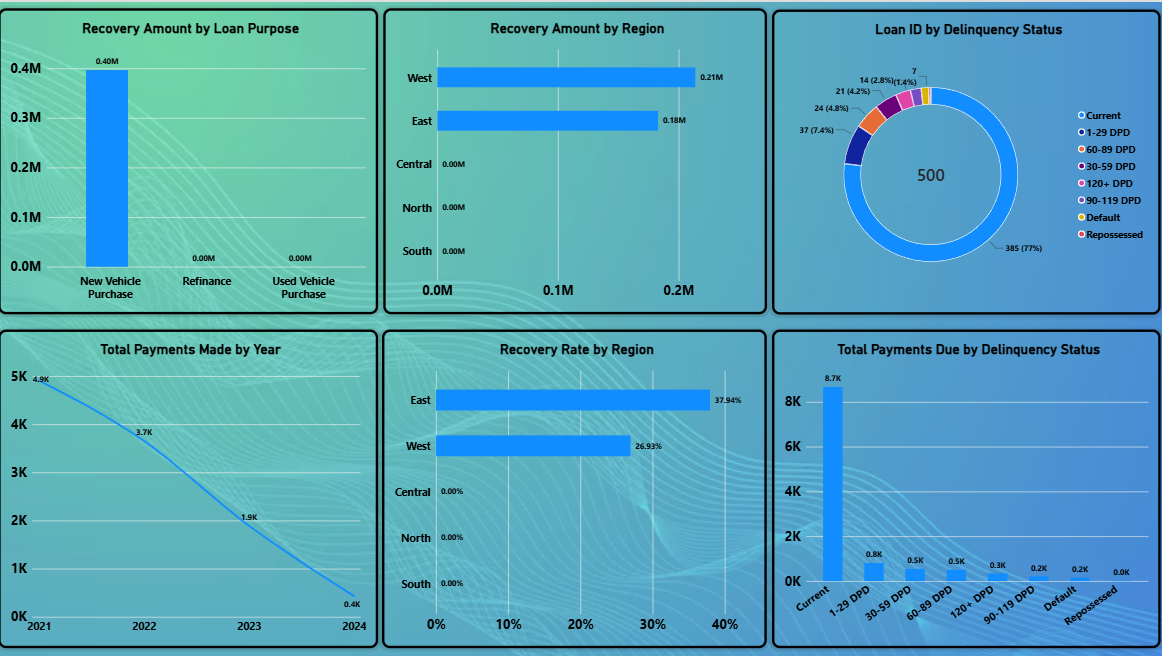

The page's visual inventory and layout, read from the dashboard file:
{"tool":"powerbi","page":{"name":"Collection & Recovery Analysis","canvas":[1920,1080],"ordinal":3},"visuals":[{"type":"clusteredColumnChart","title":" Recovery Amount by Loan Purpose","fields":{"Category":["Loan.LoanPurpose"],"Y":["Sum(Loan.RecoveryAmount)"]},"box":[2.1,10.3,625.7,504.3],"z":0},{"type":"clusteredBarChart","title":" Recovery Amount by Region","fields":{"Category":["Loan.Region"],"Y":["Sum(Loan.RecoveryAmount)"]},"box":[636,10.3,631.9,504.3],"z":1000},{"type":"donutChart","title":" Loan ID by Delinquency Status","fields":{"Category":["Loan.DelinquencyStatus"],"Y":["CountNonNull(Loan.LoanID)"]},"box":[1276.2,12.3,640.1,502.2],"z":2000},{"type":"lineChart","title":"Total Payments Made by Year","fields":{"Category":["Calendar.Year"],"Y":["Sum(Loan.TotalPaymentsMade)"]},"box":[2.1,539.3,625.7,524.9],"z":3000},{"type":"clusteredBarChart","title":"Recovery Rate by Region","fields":{"Category":["Loan.Region"],"Y":["Measures (2).Recovery Rate"]},"box":[634,539.3,634,524.9],"z":4000},{"type":"clusteredColumnChart","title":"Total Payments Due by Delinquency Status","fields":{"Category":["Loan.DelinquencyStatus"],"Y":["Sum(Loan.TotalPaymentsDue)"]},"box":[1276.2,539.3,640.1,524.9],"z":5000}]}

Visuals, with their boxes in screenshot pixels (x1, y1, x2, y2), scaled from the page's 1920x1080 canvas onto the 1162x656 screenshot:
" Recovery Amount by Loan Purpose" clusteredColumnChart: bbox=[1, 6, 380, 313]
" Recovery Amount by Region" clusteredBarChart: bbox=[385, 6, 767, 313]
" Loan ID by Delinquency Status" donutChart: bbox=[772, 7, 1160, 313]
"Total Payments Made by Year" lineChart: bbox=[1, 328, 380, 646]
"Recovery Rate by Region" clusteredBarChart: bbox=[384, 328, 767, 646]
"Total Payments Due by Delinquency Status" clusteredColumnChart: bbox=[772, 328, 1160, 646]
